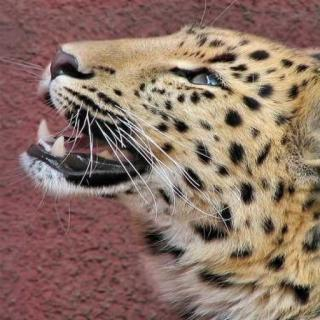Leopard: (40, 18, 320, 294)
